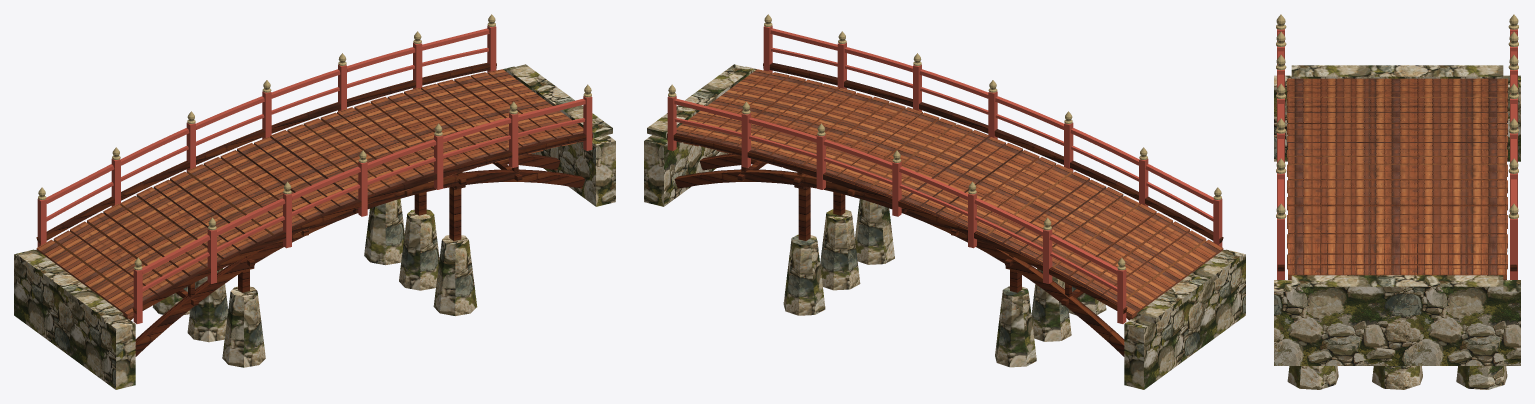
File: edo_arched_bridge.glb
3 views of the same model, side by side, from view 1: azimuth 30°, elevation 25°; view 2: azimuth 150°, elevation 25°; view 3: azimuth 270°, elevation 25° (orthographic). The views are drawn at different scales.
Parts seen in each view (by area): view 1: bridge_planks, bridge_abutments, bridge_vermilion, bridge_structure, bridge_giboshi; view 2: bridge_planks, bridge_abutments, bridge_vermilion, bridge_structure, bridge_giboshi; view 3: bridge_planks, bridge_abutments, bridge_vermilion, bridge_giboshi.
Boxes of the visible parts, <box> form: bridge_planks: <box>36,69,592,318</box>; bridge_abutments: <box>14,64,615,389</box>; bridge_vermilion: <box>37,25,592,323</box>; bridge_structure: <box>36,62,592,356</box>; bridge_giboshi: <box>38,14,591,270</box>; bridge_planks: <box>667,69,1223,318</box>; bridge_abutments: <box>644,64,1245,389</box>; bridge_vermilion: <box>667,25,1222,323</box>; bridge_structure: <box>667,62,1223,356</box>; bridge_giboshi: <box>668,14,1221,270</box>; bridge_planks: <box>1287,78,1507,280</box>; bridge_abutments: <box>1274,65,1520,389</box>; bridge_vermilion: <box>1277,29,1517,279</box>; bridge_giboshi: <box>1276,14,1518,218</box>.
Size of the model in its own units: 11.32 by 4.34 by 3.92.
5 materials, 3 textured.
